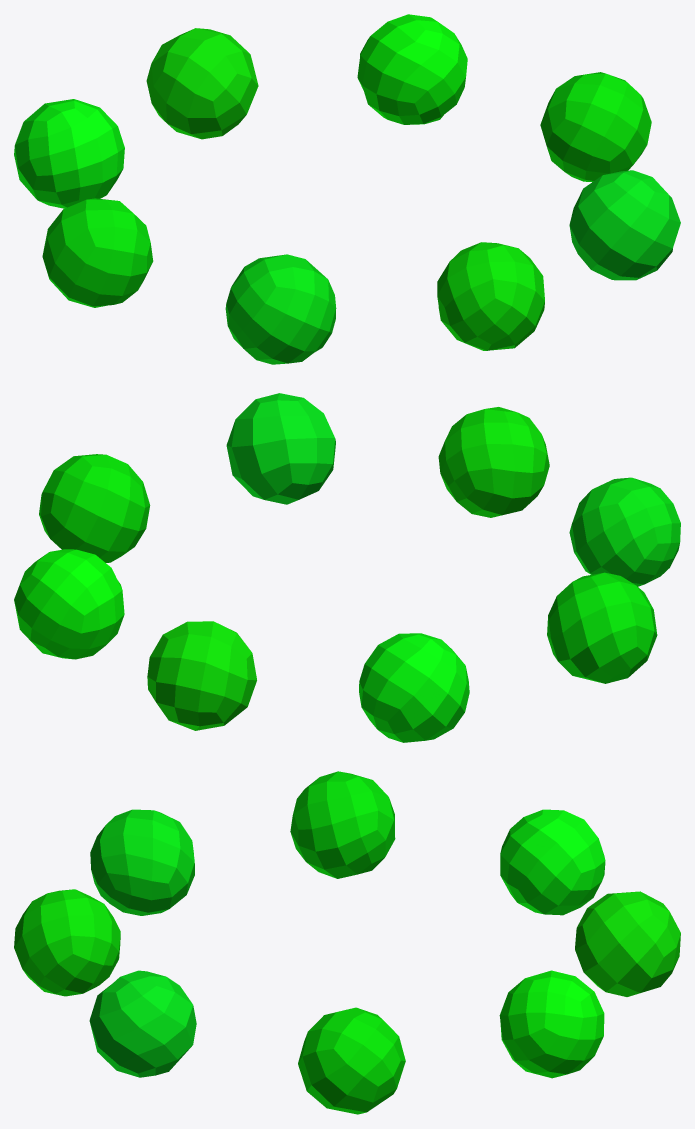
File: Green_spheres.fbx
The picture shows the model from 3 angles, top to bottom: view 1: azimuth 30°, elevation 25°; view 2: azimuth 150°, elevation 25°; view 3: azimuth 270°, elevation 25°; orthographic projection. The views are drawn at different scales.
Visible parts, largest first — view 1: Esferas 55-70 faces; view 2: Esferas 55-70 faces; view 3: Esferas 55-70 faces.
Boxes of the visible parts, <box> form: Esferas 55-70 faces: <box>14,14,680,364</box>; Esferas 55-70 faces: <box>14,393,680,742</box>; Esferas 55-70 faces: <box>14,771,680,1114</box>.
Bounding box in the file's own units: 264 × 42.86 × 265.
